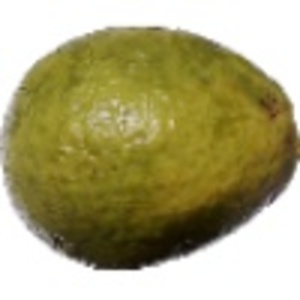goiaba: (5, 22, 295, 272)
